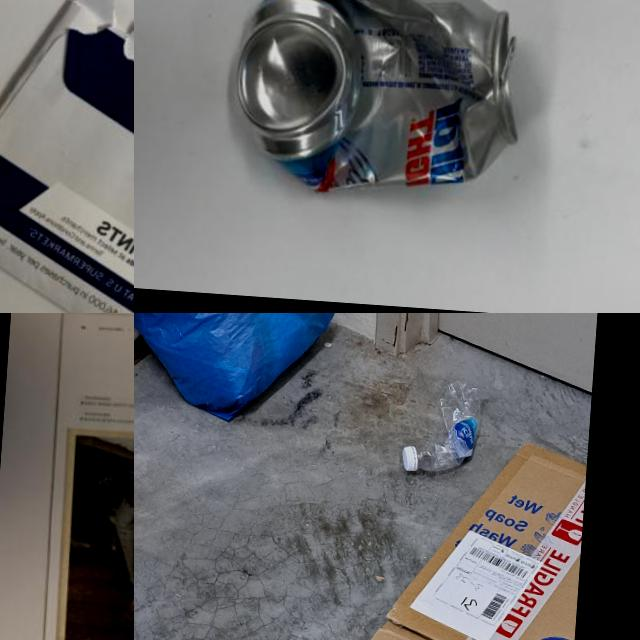garrafa plástica: (416, 378, 482, 474)
lata: (227, 0, 527, 204)
papel: (0, 0, 134, 313), (38, 313, 134, 640)
papelão: (267, 425, 588, 640)
sacola plástica: (134, 313, 342, 430)
tampa plástica: (400, 445, 417, 471)
